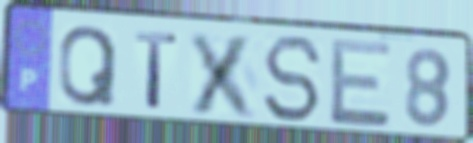8: (403, 46, 454, 130)
E: (328, 35, 394, 129)
Q: (56, 23, 120, 109)
S: (261, 34, 325, 126)
T: (133, 28, 181, 113)
X: (186, 28, 262, 122)
